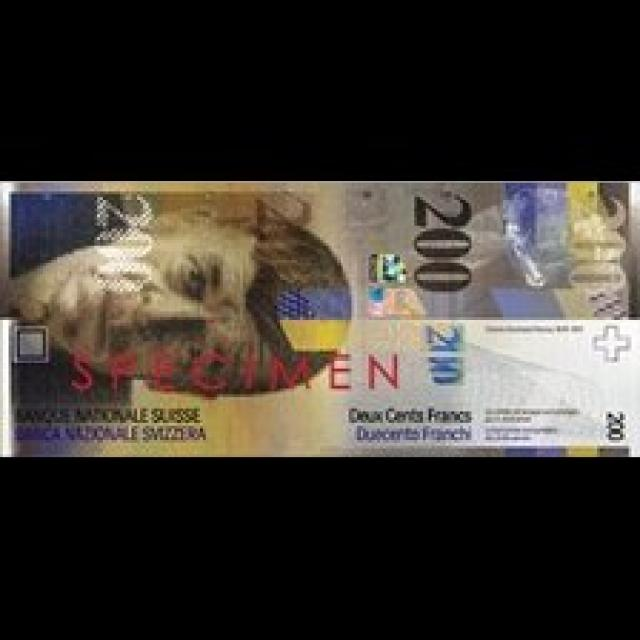banknote: (2, 179, 640, 454), (91, 188, 160, 306), (567, 194, 632, 300), (413, 192, 474, 298), (600, 408, 630, 445)
